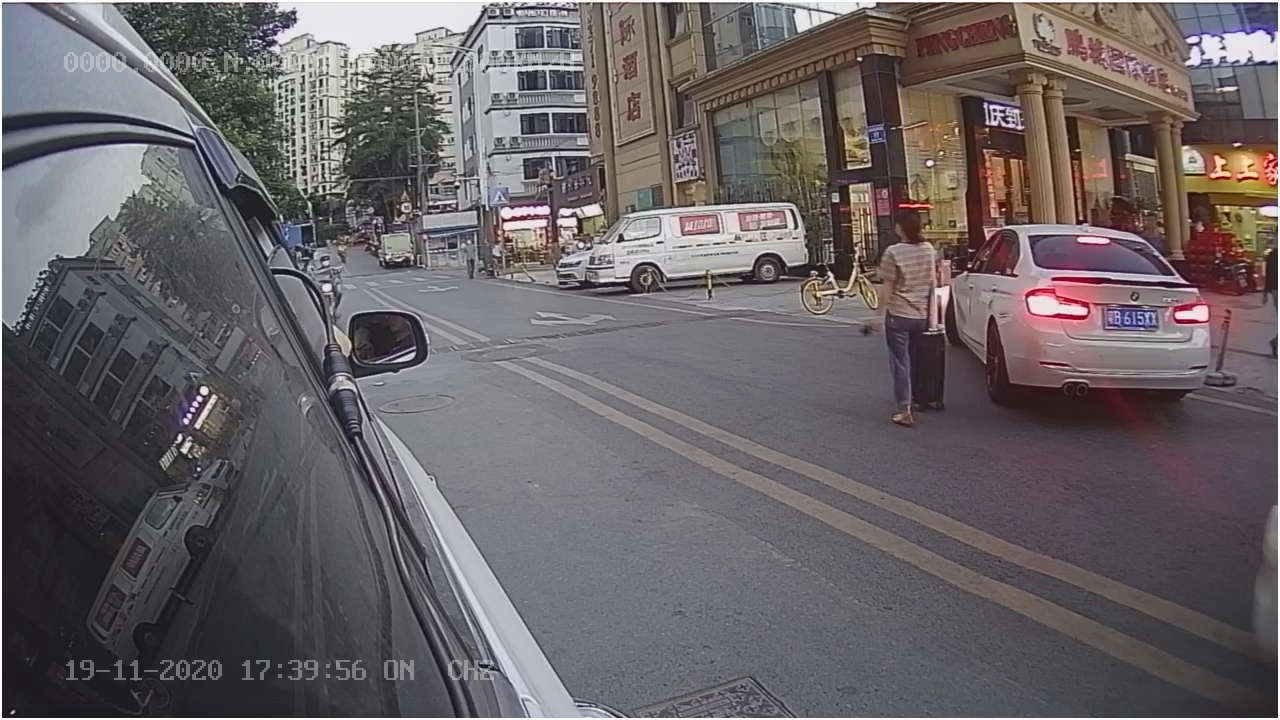person: (863, 213, 952, 438)
